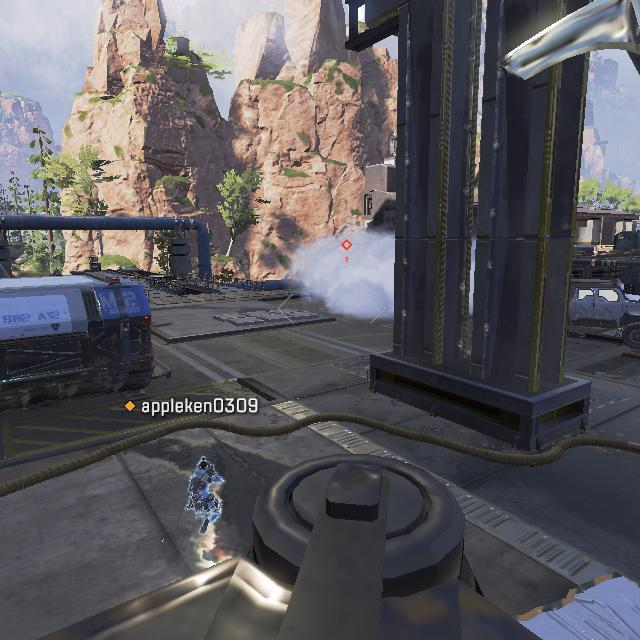avatar: (186, 454, 224, 535)
